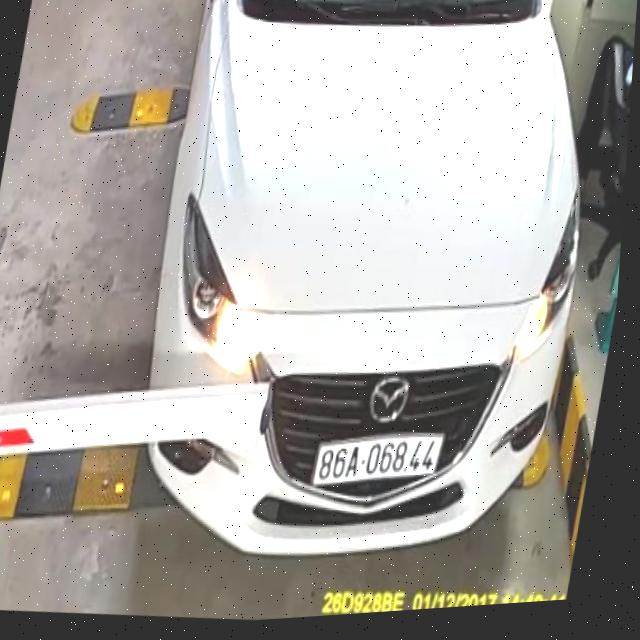car: (94, 0, 631, 597)
plate: (307, 420, 447, 498)
